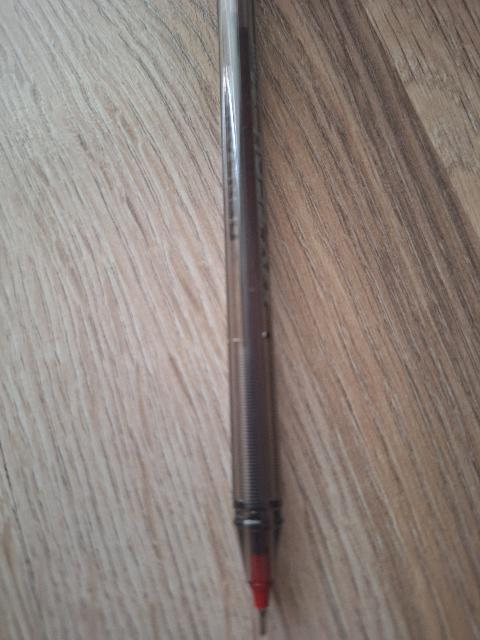writing_tool: (217, 0, 291, 635)
